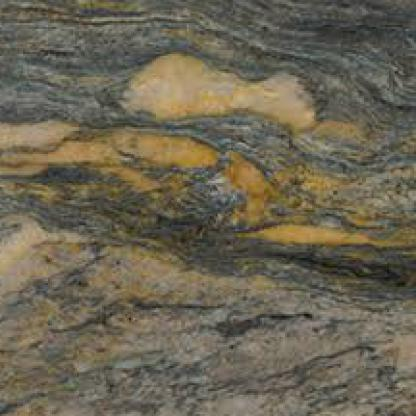Metamorphic_Quartize: (0, 2, 414, 414)
